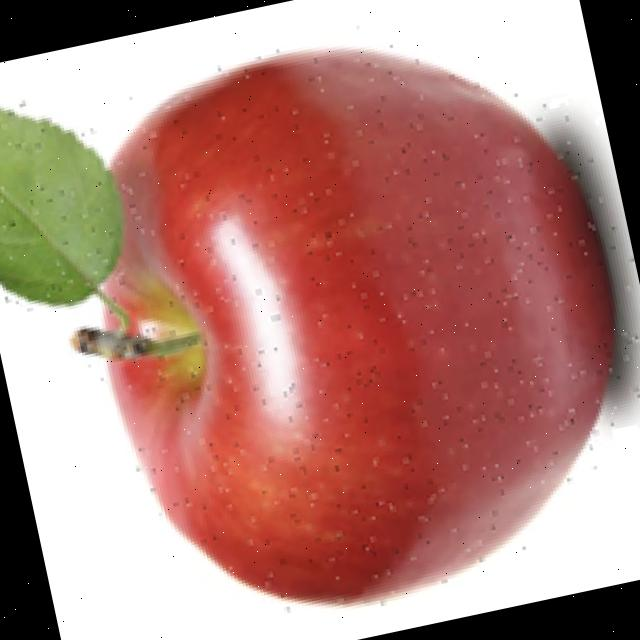apple: (0, 43, 640, 615)
